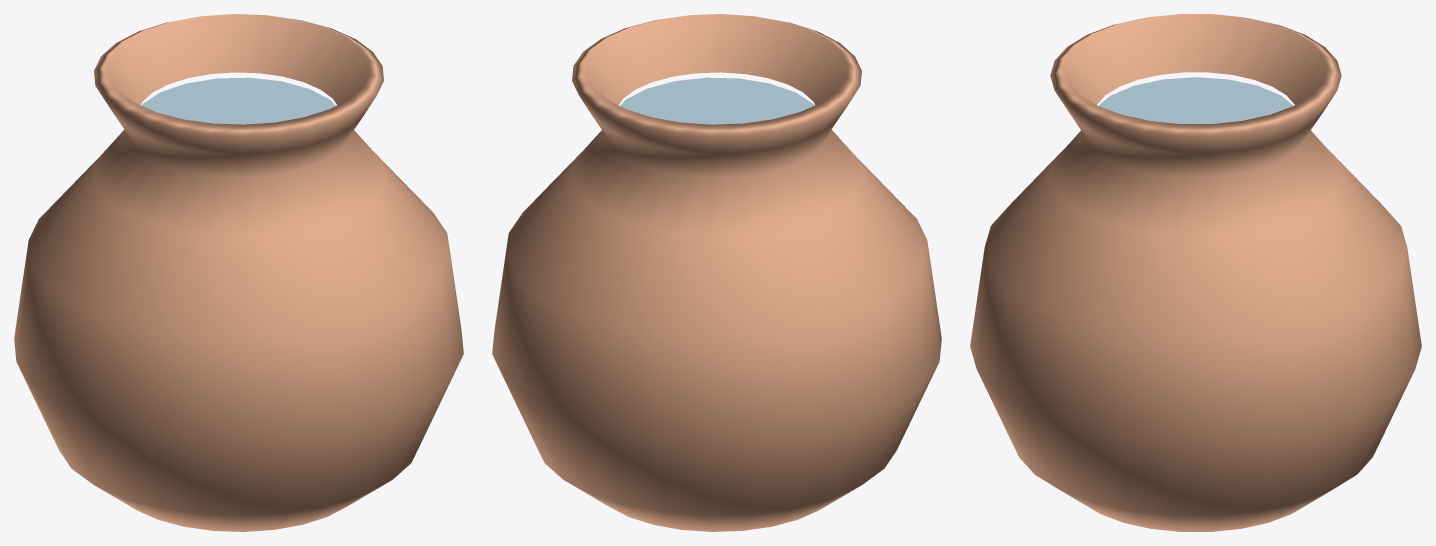
The model's file is lota.glb.
3 renders of one model, left to right at view 1: azimuth 30°, elevation 25°; view 2: azimuth 150°, elevation 25°; view 3: azimuth 270°, elevation 25°, orthographic.
Parts seen in each view (by area): view 1: lota; view 2: lota; view 3: lota.
Part boxes in pixels (bbox=[...]): lota: bbox=[14, 14, 463, 531]; lota: bbox=[492, 14, 941, 531]; lota: bbox=[970, 14, 1421, 531].
Bounding box in the file's own units: 0.1231 × 0.124 × 0.124.
